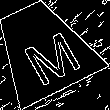M_NW: (8, 16, 78, 82)
